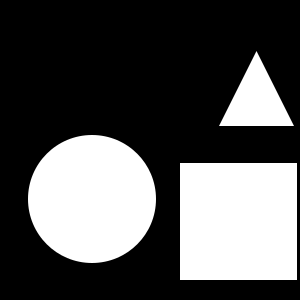circle: (180, 163, 297, 280)
rectangle: (28, 135, 156, 263)
triangle: (219, 51, 294, 126)
